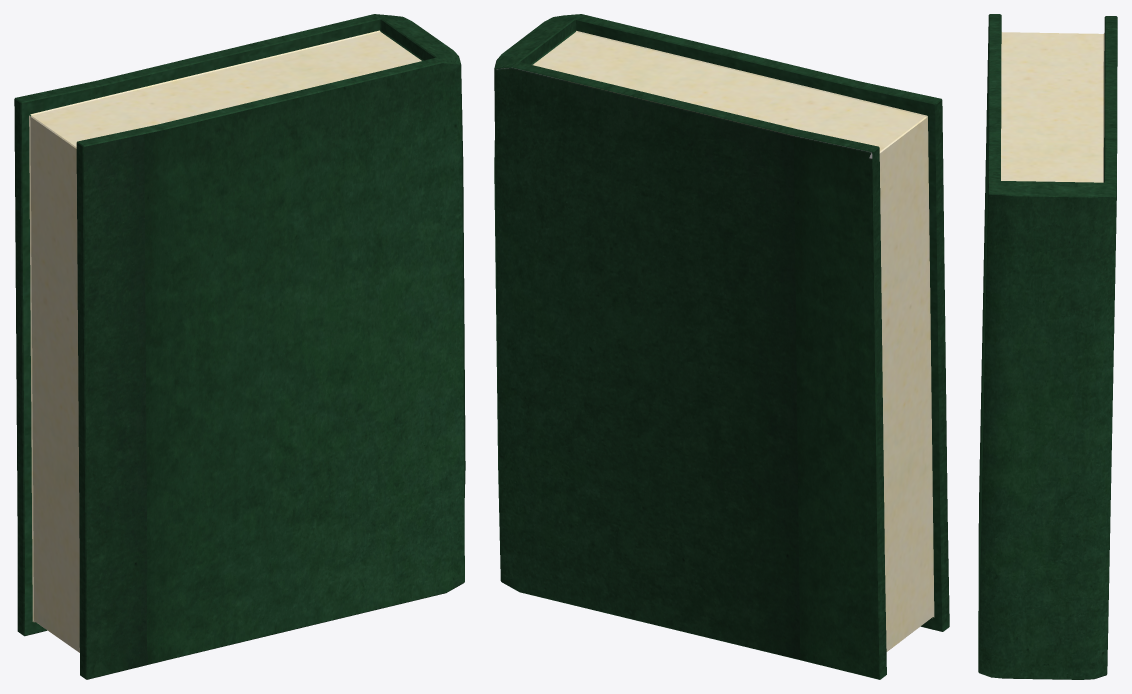
File: smallBookGreen.fbx
3 views of the same model, side by side, from view 1: azimuth 30°, elevation 25°; view 2: azimuth 150°, elevation 25°; view 3: azimuth 270°, elevation 25° (orthographic). The views are drawn at different scales.
Parts seen in each view (by area): view 1: book7; view 2: book7; view 3: book7.
Boxes of the visible parts, box(x1,y1,x2,y2) form: book7: box(14, 14, 465, 679); book7: box(494, 14, 949, 679); book7: box(978, 14, 1117, 679).
Bounding box in the file's own units: 15.61 × 20.38 × 5.19.
Materials: 1 (1 with a texture image).
